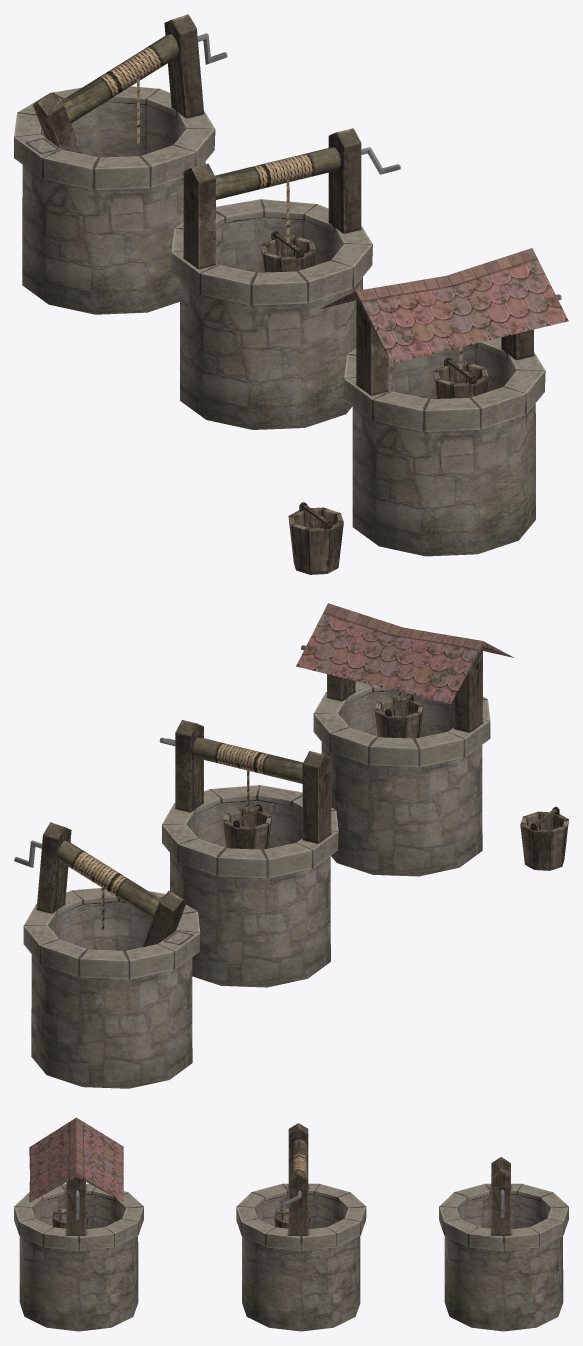
Rendered from well_1.FBX.
3 views of the same model, one above another, from view 1: azimuth 30°, elevation 25°; view 2: azimuth 150°, elevation 25°; view 3: azimuth 270°, elevation 25° (orthographic). The views are drawn at different scales.
Visible parts, largest first — view 1: well_1, well_002, well_003, bucket; view 2: well_1, well_002, well_003, bucket; view 3: well_1, well_002, well_003.
Boxes of the visible parts, x1,y1,x2,y2 form: well_1: (320, 248, 568, 556); well_002: (171, 128, 400, 429); well_003: (14, 14, 227, 314); bucket: (288, 502, 343, 574); well_1: (296, 603, 514, 876); well_002: (159, 720, 338, 987); well_003: (14, 822, 200, 1088); bucket: (520, 806, 568, 870); well_1: (14, 1117, 143, 1331); well_002: (236, 1123, 366, 1331); well_003: (439, 1157, 568, 1331).
Bounding box in the file's own units: 1695 × 1422 × 4442.
